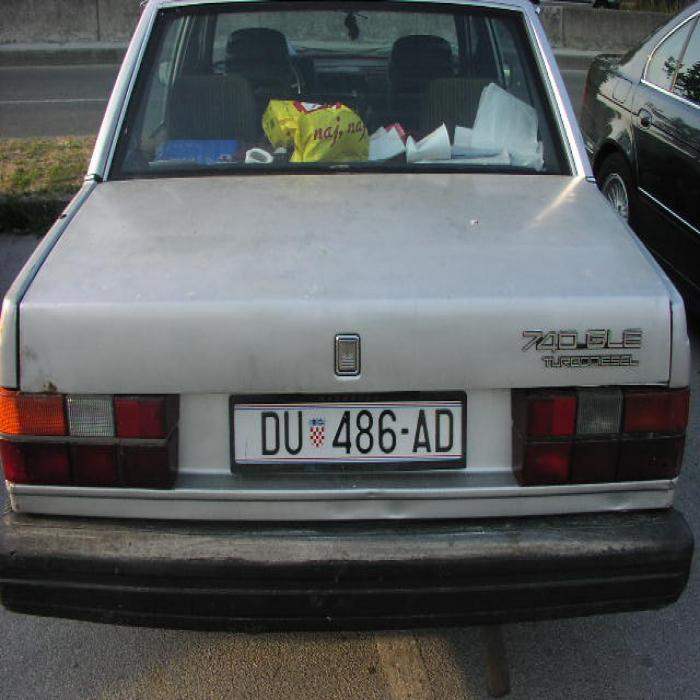number_plate: (233, 404, 462, 459)
